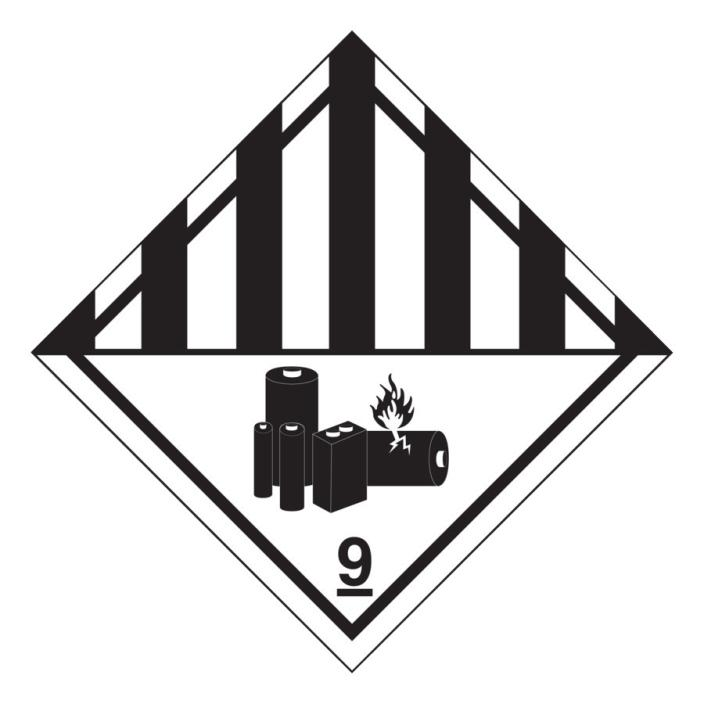elevator doors: (27, 29, 677, 678)
